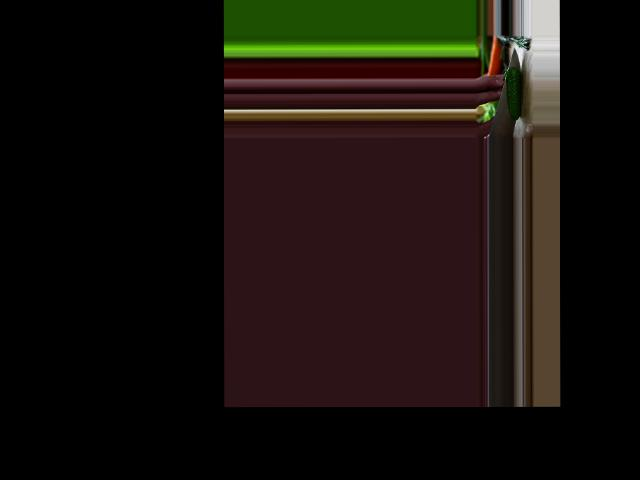cucumber: (506, 66, 522, 119)
